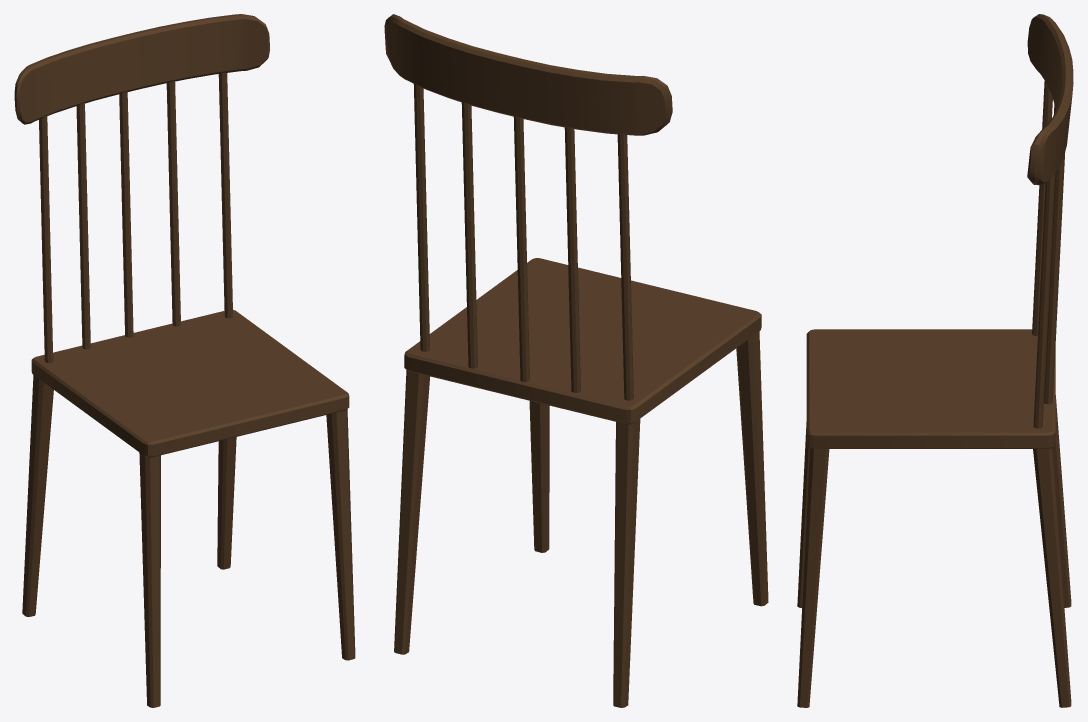
File: Chair.glb
The picture shows the model from 3 angles, left to right: view 1: azimuth 30°, elevation 25°; view 2: azimuth 150°, elevation 25°; view 3: azimuth 270°, elevation 25°; orthographic projection. The views are drawn at different scales.
Parts seen in each view (by area): view 1: Chair; view 2: Chair; view 3: Chair.
Part boxes in pixels (x1,y1,x2,y2): Chair: [14, 14, 355, 707]; Chair: [384, 14, 768, 707]; Chair: [797, 14, 1073, 707].
Size of the model in its own units: 0.4924 by 1.03 by 0.443.
